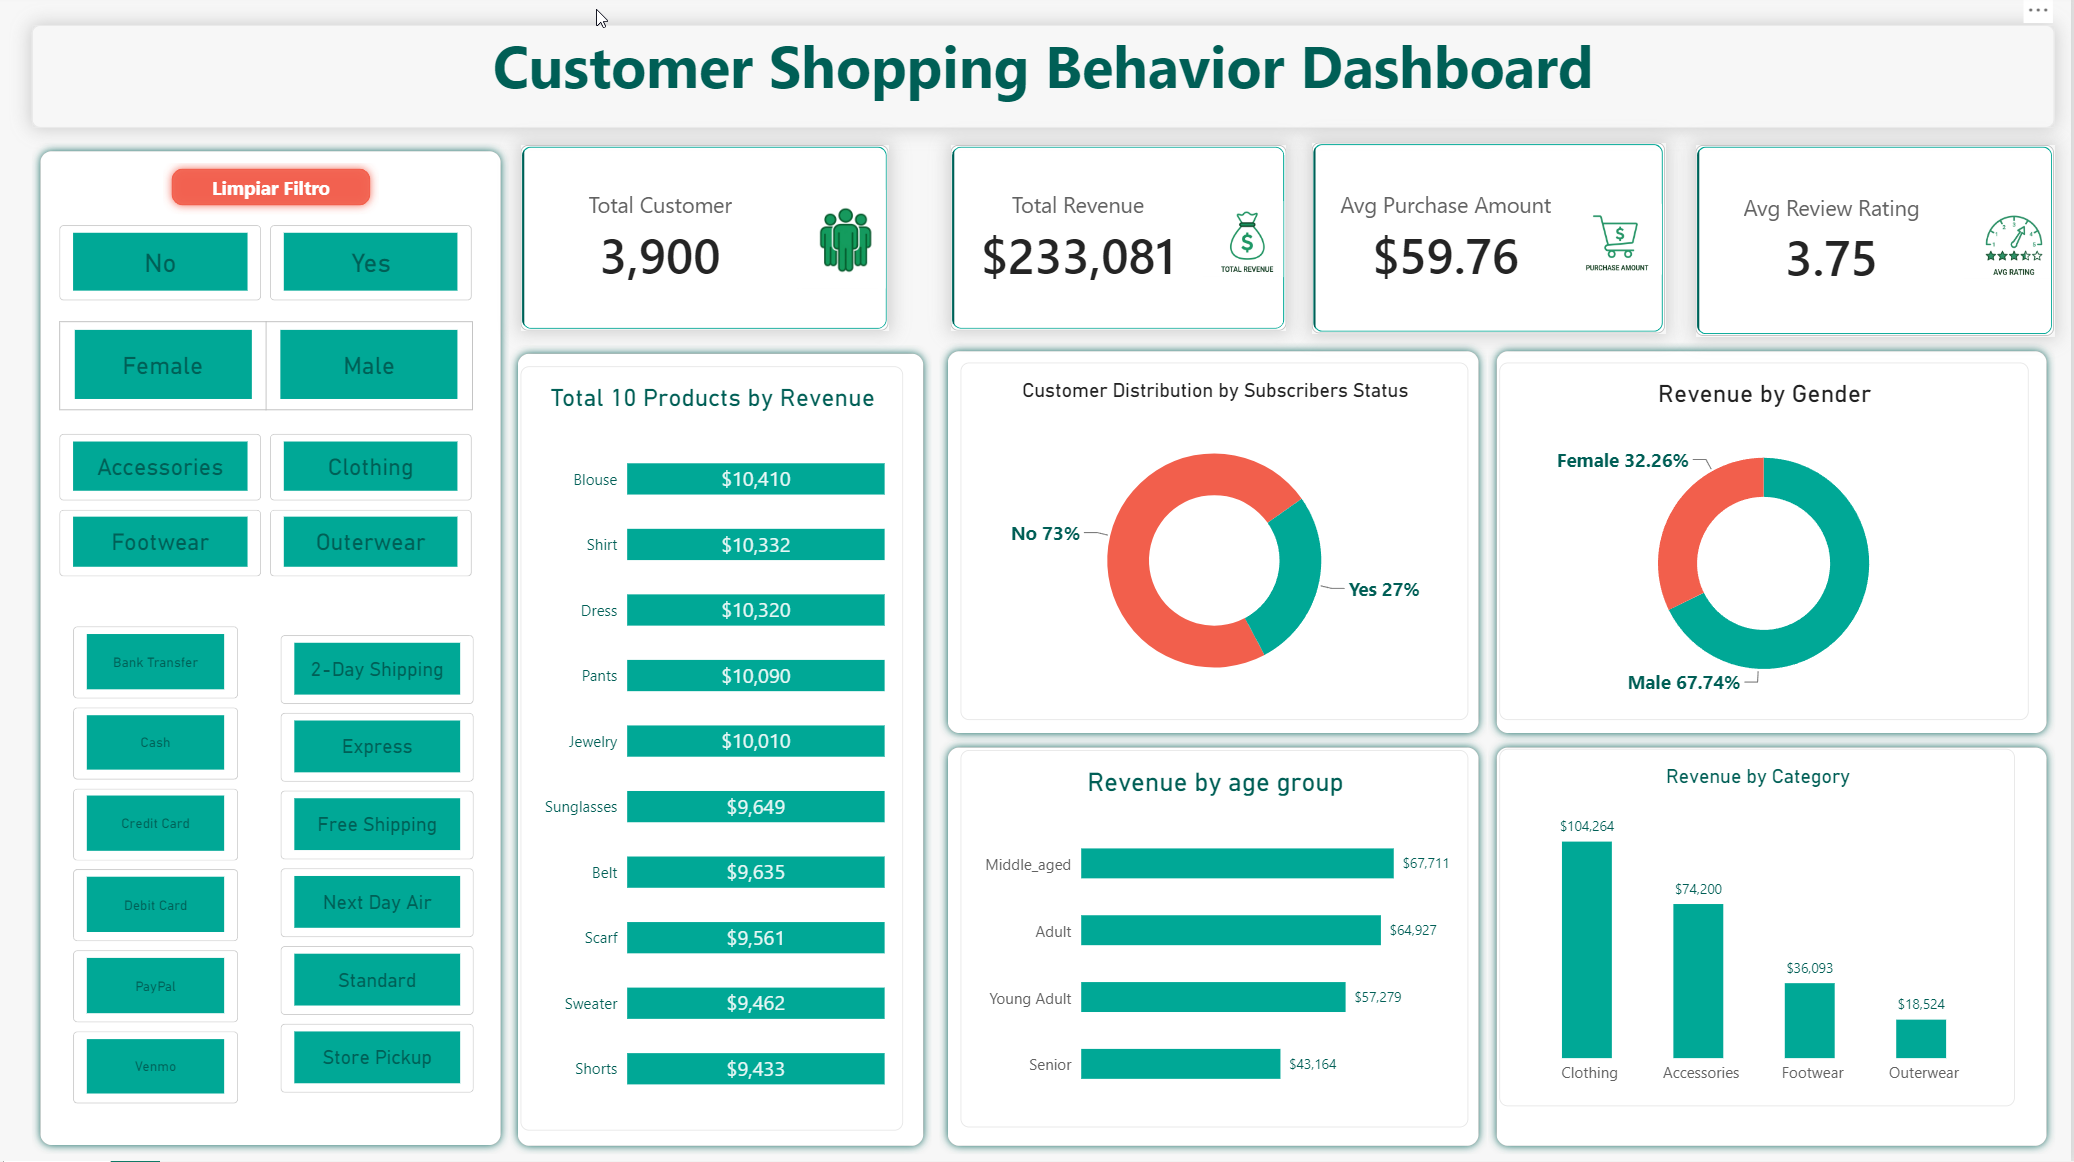

Layout of this report page (visuals, bound fields, positions):
{"tool":"powerbi","page":{"name":"Página 1","canvas":[1920,1080],"ordinal":0},"visuals":[{"type":"shape","box":[31.3,136.6,442.3,936.7],"z":0},{"type":"shape","box":[473.1,323.9,391.4,749.7],"z":1000},{"type":"shape","box":[872.1,688.5,507.5,385.1],"z":2000},{"type":"shape","box":[1379.6,688.5,525.3,385.1],"z":3000},{"type":"shape","box":[1379.6,321.3,525.3,369.8],"z":4000},{"type":"shape","box":[872.1,321.3,507.5,369.8],"z":5000},{"type":"cardVisual","fields":{"Data":["public customer.Total Customer"]},"box":[484.5,139,341.7,172.1],"z":6000},{"type":"cardVisual","fields":{"Data":["public customer.Total Revenue"]},"box":[882.4,139,311.1,172.1],"z":7000},{"type":"cardVisual","fields":{"Data":["public customer.Avg Purchase Amount"]},"box":[1216.4,136.4,327.7,177.2],"z":8000},{"type":"cardVisual","fields":{"Data":["public customer.Avg Review Rating"]},"box":[1572.2,139,332.8,177.2],"z":9000},{"type":"textbox","box":[31.4,27.9,1873.7,95.3],"z":10000},{"type":"donutChart","title":"Customer Distribution by Subscribers Status","fields":{"Category":["public customer.subscription_status"],"Y":["public customer.Total Customer"]},"box":[891.3,340.4,470.5,331.5],"z":11000},{"type":"clusteredColumnChart","title":"Revenue by Category","fields":{"Category":["public customer.category"],"Y":["public customer.Total Revenue"]},"box":[1390.1,698.2,477.8,331.4],"z":12000},{"type":"clusteredBarChart","title":"Revenue by age group","fields":{"Category":["public customer.age_group"],"Y":["public customer.Total Revenue"]},"box":[891.3,698.7,470.5,349.4],"z":13000},{"type":"donutChart","title":"Revenue by Gender","fields":{"Category":["public customer.gender"],"Y":["public customer.Total Revenue"]},"box":[1390.1,340.6,490.1,331.4],"z":14000},{"type":"hundredPercentStackedBarChart","title":"Total 10 Products by Revenue","fields":{"Category":["public customer.item_purchased"],"Y":["public customer.Total Revenue"]},"box":[484.5,344.3,354.5,707.7],"z":15000},{"type":"advancedSlicerVisual","fields":{"Values":["public customer.subscription_status"]},"box":[57,212.7,383.6,70.9],"z":16000},{"type":"advancedSlicerVisual","fields":{"Values":["public customer.gender"]},"box":[57,302.2,383.6,82.5],"z":17000},{"type":"advancedSlicerVisual","fields":{"Values":["public customer.payment_method"]},"box":[69.7,584.7,153.4,445.2],"z":18000},{"type":"advancedSlicerVisual","fields":{"Values":["public customer.category"]},"box":[57,406.8,383.6,133.7],"z":19000},{"type":"advancedSlicerVisual","fields":{"Values":["public customer.shipping_type"]},"box":[261.5,592.8,179,424.3],"z":20000},{"type":"actionButton","box":[152.3,152.3,200,50],"z":21000}]}

Visuals, with their boxes in screenshot pixels (x1, y1, x2, y2), scaled from the page's 1920x1080 canvas onto the 2074x1162 screenshot:
shape: region(34, 147, 512, 1155)
shape: region(511, 348, 934, 1155)
shape: region(942, 741, 1490, 1155)
shape: region(1490, 741, 2058, 1155)
shape: region(1490, 346, 2058, 744)
shape: region(942, 346, 1490, 744)
cardVisual - public customer.Total Customer: region(523, 150, 892, 335)
cardVisual - public customer.Total Revenue: region(953, 150, 1289, 335)
cardVisual - public customer.Avg Purchase Amount: region(1314, 147, 1668, 337)
cardVisual - public customer.Avg Review Rating: region(1698, 150, 2058, 340)
textbox: region(34, 30, 2058, 133)
"Customer Distribution by Subscribers Status" donutChart: region(963, 366, 1471, 723)
"Revenue by Category" clusteredColumnChart: region(1502, 751, 2018, 1108)
"Revenue by age group" clusteredBarChart: region(963, 752, 1471, 1128)
"Revenue by Gender" donutChart: region(1502, 366, 2031, 723)
"Total 10 Products by Revenue" hundredPercentStackedBarChart: region(523, 370, 906, 1132)
advancedSlicerVisual - public customer.subscription_status: region(62, 229, 476, 305)
advancedSlicerVisual - public customer.gender: region(62, 325, 476, 414)
advancedSlicerVisual - public customer.payment_method: region(75, 629, 241, 1108)
advancedSlicerVisual - public customer.category: region(62, 438, 476, 582)
advancedSlicerVisual - public customer.shipping_type: region(282, 638, 476, 1094)
actionButton: region(165, 164, 381, 218)
